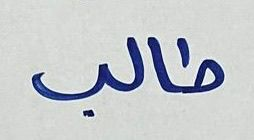alef: (146, 28, 173, 99)
beh: (22, 54, 111, 120)
lam: (113, 31, 145, 95)
tah: (176, 34, 230, 98)
